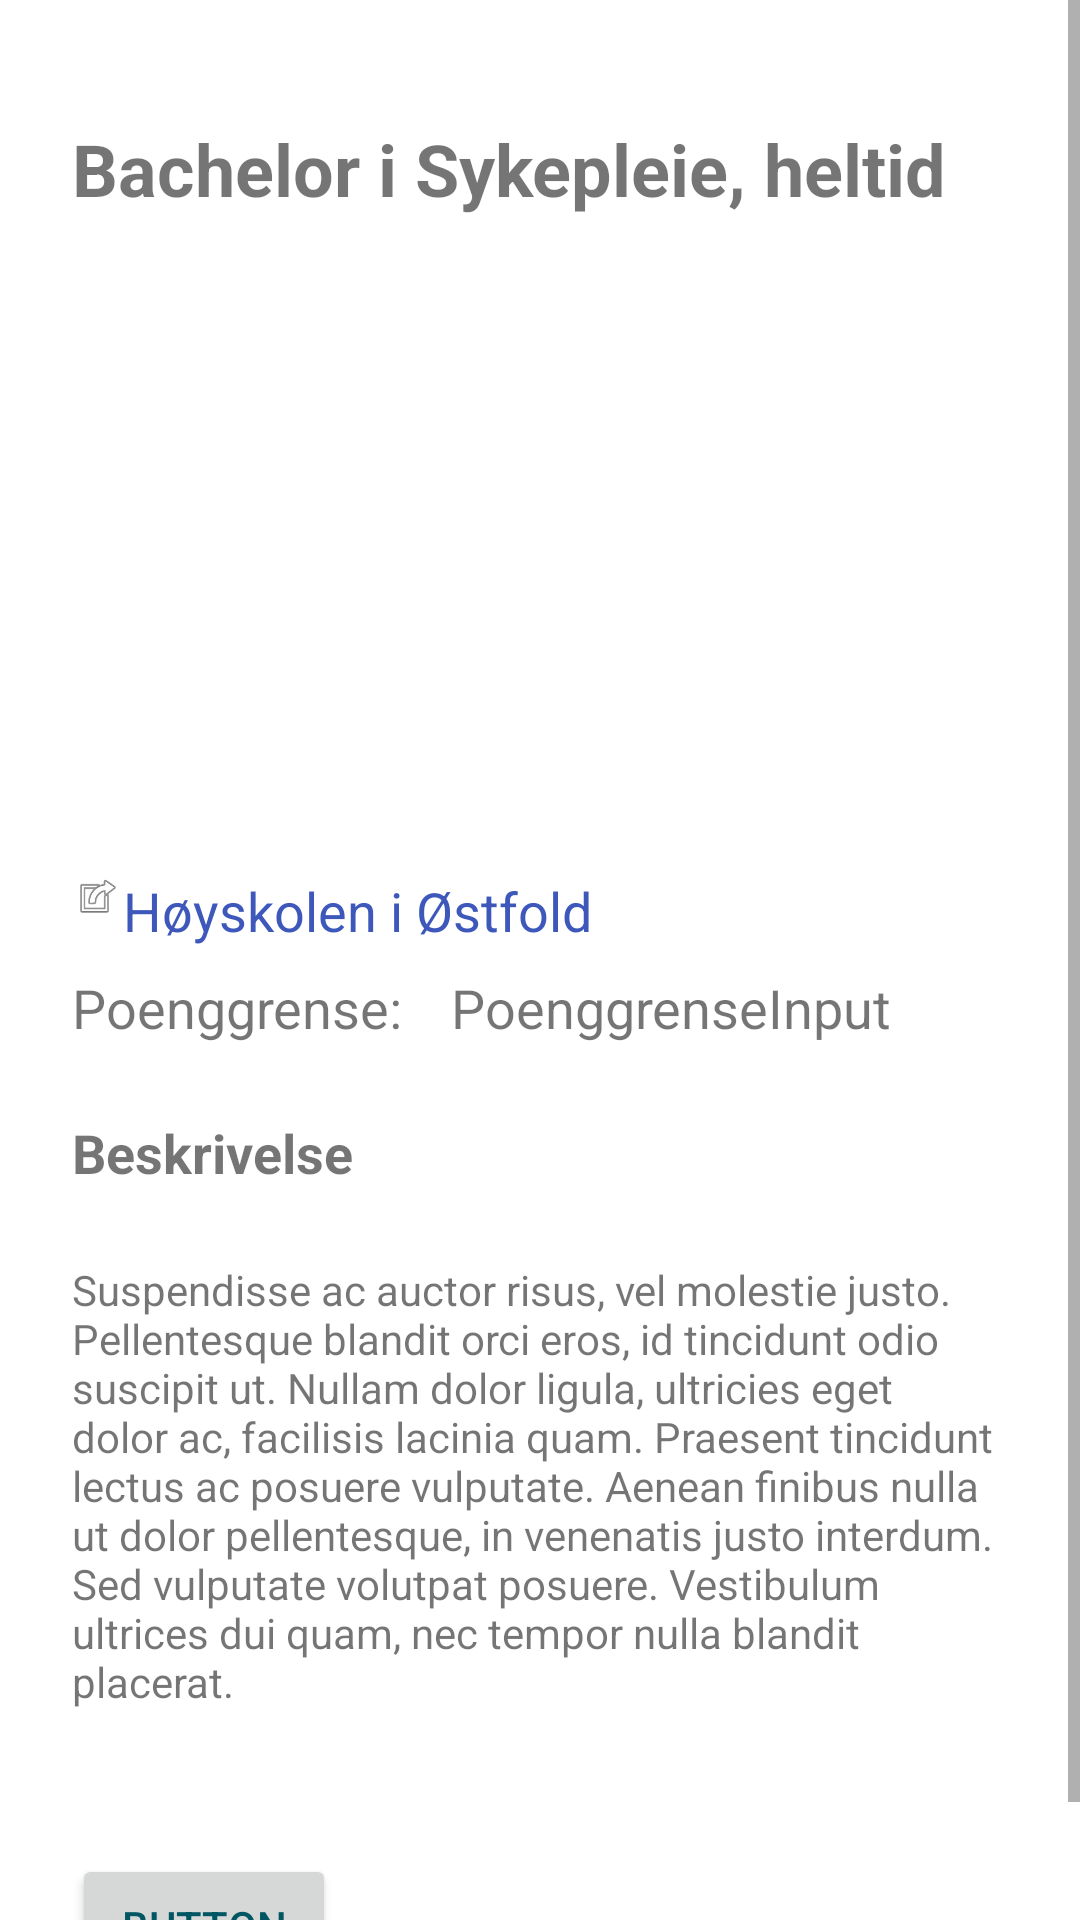

Icons on this 1080 × 1920 Android screen, each with its box as [x1=x1, y1=y1, x2=x2, y2=y2]:
Send webBrowser: [x1=80, y1=880, x2=116, y2=913]
